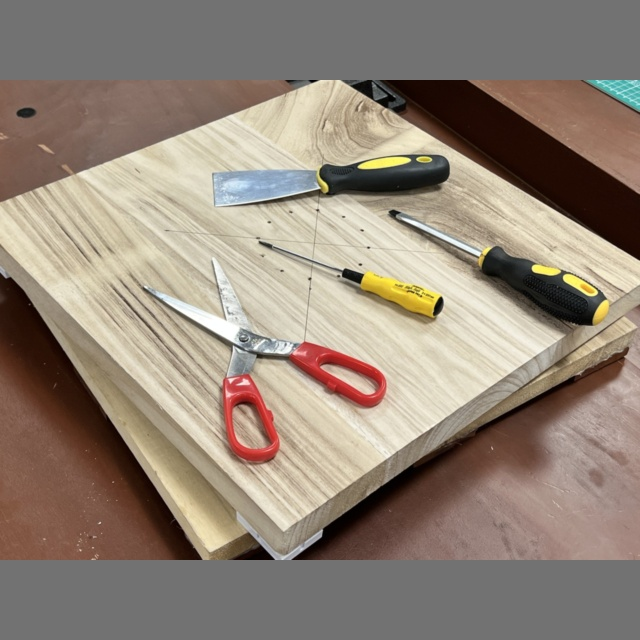scissor: (145, 258, 386, 463)
screwdriver: (389, 210, 609, 325), (258, 238, 444, 317)
